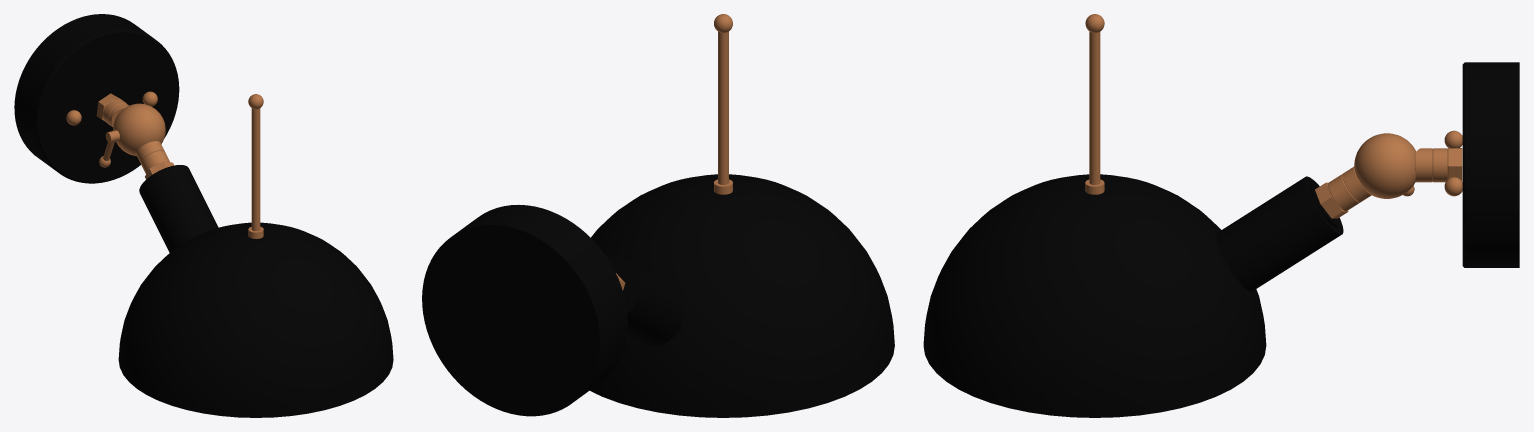
File: Light Work_FBX.fbx
3 views of the same model, side by side, from view 1: azimuth 30°, elevation 25°; view 2: azimuth 150°, elevation 25°; view 3: azimuth 270°, elevation 25° (orthographic). The views are drawn at different scales.
Parts seen in each view (by area): view 1: Main Body, Wall Unit; view 2: Main Body, Wall Unit; view 3: Main Body, Wall Unit.
Part boxes in pixels (<box>): Main Body: <box>99,94,393,417</box>; Wall Unit: <box>14,14,179,183</box>; Main Body: <box>590,14,894,417</box>; Wall Unit: <box>422,205,627,416</box>; Main Body: <box>923,14,1416,417</box>; Wall Unit: <box>1415,62,1519,267</box>.
Bounding box in the file's own units: 12.5 × 13.3 × 21.73.
